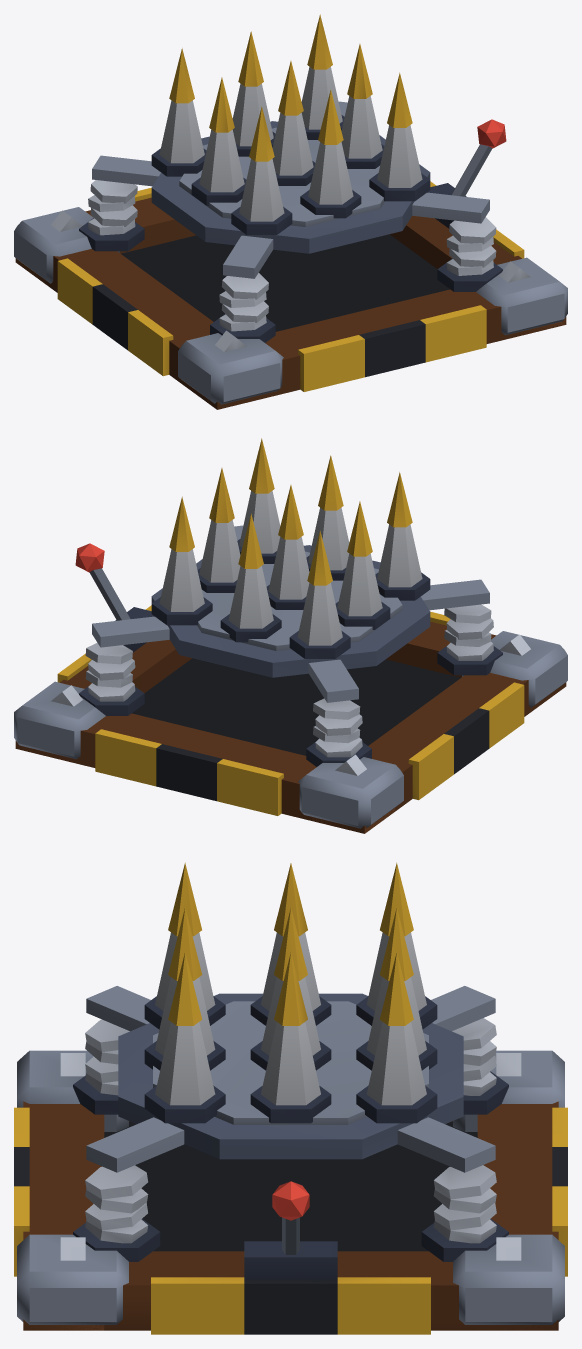
Rendered from b_stachel.glb.
3 renders of one model, top to bottom at view 1: azimuth 30°, elevation 25°; view 2: azimuth 150°, elevation 25°; view 3: azimuth 270°, elevation 25°, orthographic. The views are drawn at different scales.
Parts seen in each view (by area): view 1: body, bob_spikes, lv4_corners, lv7_tips; view 2: body, bob_spikes, lv4_corners, lv7_tips; view 3: body, bob_spikes, lv4_corners, lv7_tips.
Boxes of the visible parts, box(x1,y1,x2,y2) form: body: box(15, 119, 566, 409); bob_spikes: box(92, 67, 489, 278); lv4_corners: box(14, 207, 567, 404); lv7_tips: box(169, 14, 412, 161); body: box(15, 543, 566, 833); bob_spikes: box(92, 491, 489, 702); lv4_corners: box(14, 631, 567, 828); lv7_tips: box(169, 438, 412, 585); body: box(14, 1018, 567, 1334); bob_spikes: box(86, 932, 495, 1172); lv4_corners: box(17, 1050, 564, 1324); lv7_tips: box(168, 862, 413, 1025).
Size of the model in its own units: 1.94 by 1.1 by 1.78.
